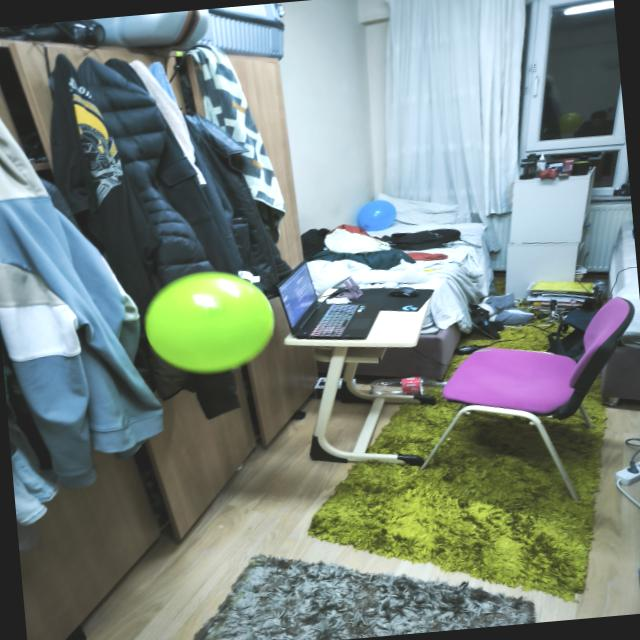balloon: (144, 271, 274, 374), (357, 200, 395, 231)
